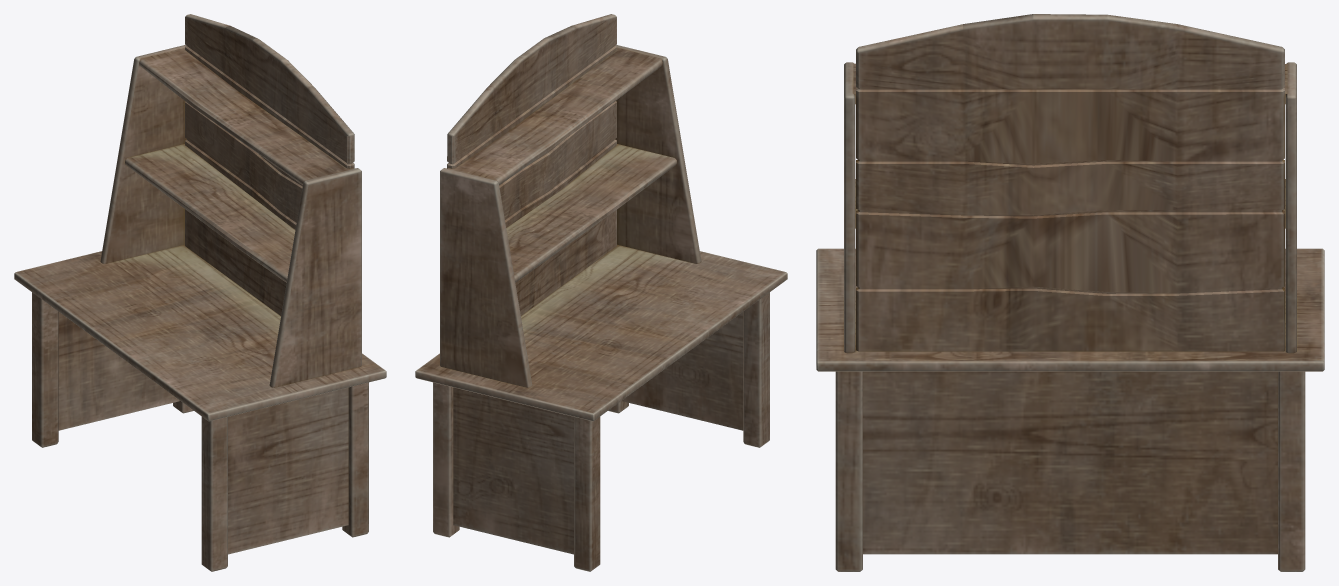
Rendered from SM_table_03.fbx.
3 views of the same model, side by side, from view 1: azimuth 30°, elevation 25°; view 2: azimuth 150°, elevation 25°; view 3: azimuth 270°, elevation 25° (orthographic). The views are drawn at different scales.
Visible parts, largest first — view 1: SM_table_03_LOD0; view 2: SM_table_03_LOD0; view 3: SM_table_03_LOD0.
Part boxes in pixels (left/top/right/bottom): SM_table_03_LOD0: left=14, top=14, right=386, bottom=571; SM_table_03_LOD0: left=415, top=14, right=787, bottom=571; SM_table_03_LOD0: left=816, top=14, right=1324, bottom=571.
Bounding box in the file's own units: 118 × 223 × 266.
1 material, 1 textured.
